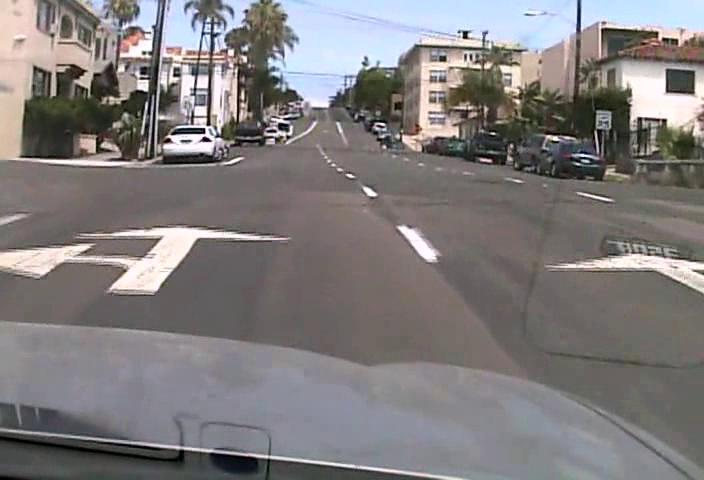speedLimit25: (594, 109, 611, 130)
